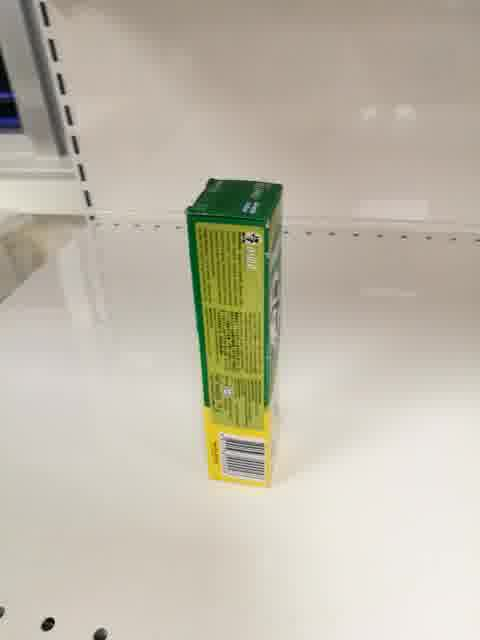toothpaste: (186, 177, 284, 487)
